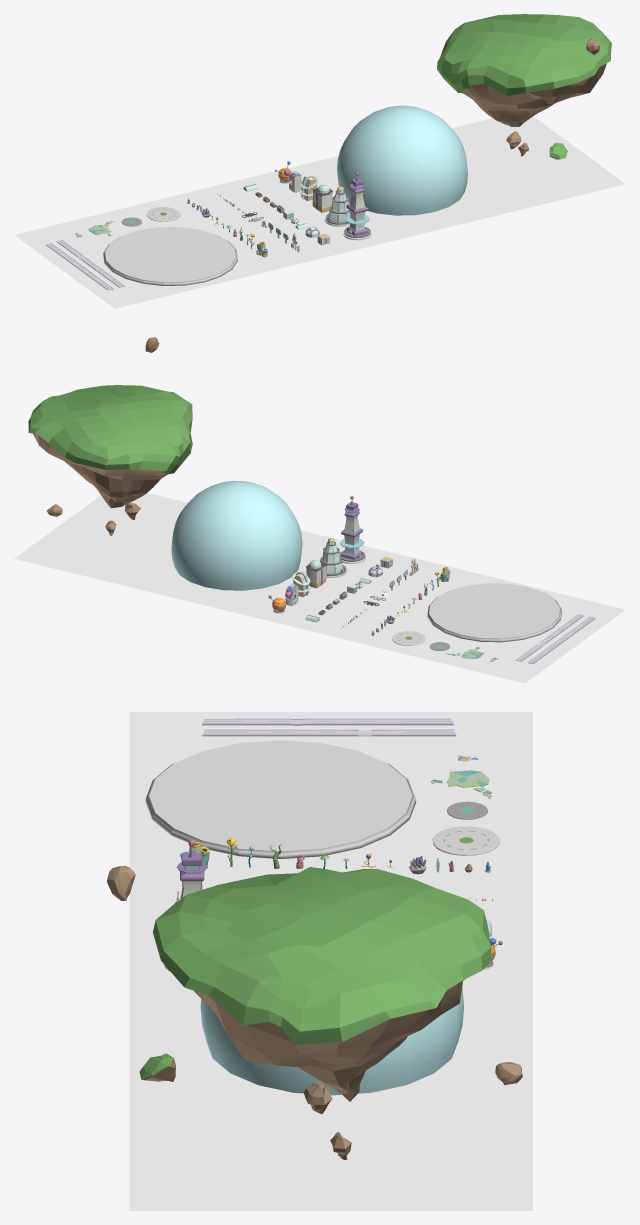
File: Island_Interiors.glb
3 renders of one model, top to bottom at view 1: azimuth 30°, elevation 25°; view 2: azimuth 150°, elevation 25°; view 3: azimuth 270°, elevation 25°, orthographic. The views are drawn at different scales.
Parts seen in each view (by area): view 1: Ground, Island.001, Dome, Floor, Skyskraper_2, Skyskraper_1, Building_1, Driveway_1, Driveway_2, Roundabout; view 2: Ground, Island.001, Dome, Floor, Skyskraper_2, Skyskraper_1; view 3: Ground, Island.001, Floor, Dome, Driveway_1, Driveway_2, Roundabout, Skyskraper_2, Platform.
Boxes of the visible parts, x1,y1,x2,y2 form: Ground: (14, 116, 625, 308); Island.001: (437, 14, 611, 159); Dome: (337, 105, 467, 215); Floor: (103, 227, 237, 285); Skyskraper_2: (343, 172, 371, 240); Skyskraper_1: (324, 186, 350, 226); Building_1: (312, 184, 332, 212); Driveway_1: (56, 239, 125, 287); Driveway_2: (46, 243, 113, 290); Roundabout: (146, 207, 180, 221); Ground: (14, 493, 625, 683); Island.001: (28, 337, 192, 535); Dome: (171, 480, 302, 590); Floor: (427, 583, 561, 642); Skyskraper_2: (339, 496, 365, 563); Skyskraper_1: (320, 537, 347, 577); Ground: (129, 712, 532, 1210); Island.001: (107, 865, 522, 1159); Floor: (145, 740, 416, 858); Dome: (200, 988, 463, 1095); Driveway_1: (202, 729, 456, 736); Driveway_2: (202, 718, 453, 725); Roundabout: (432, 826, 499, 855); Skyskraper_2: (164, 839, 207, 971); Platform: (431, 770, 492, 798).
Bounding box in the file's own units: 298 × 83.01 × 102.
3 materials, 1 textured.
